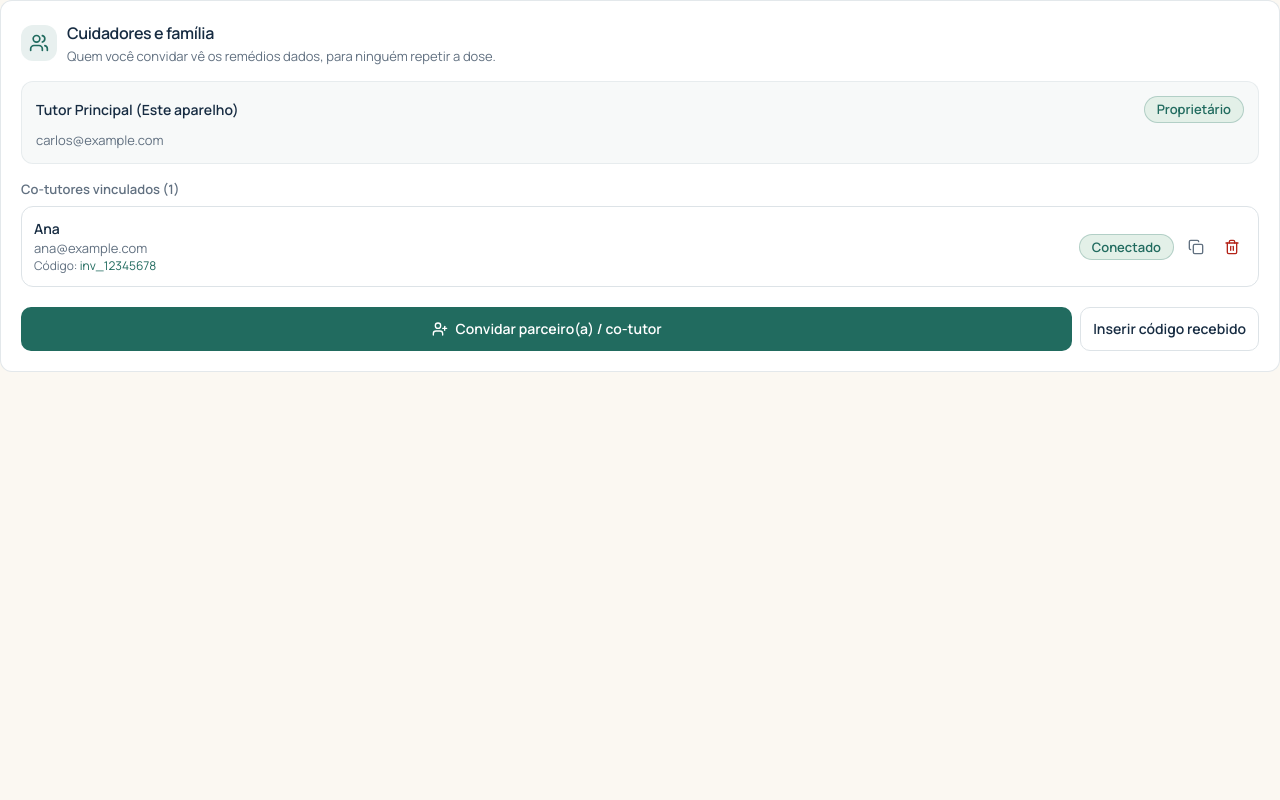
Test: Painel de Colaboradores e Multi-Tutor › abre modal para convidar co-tutor ao clicar no botão
The image size is (1280, 800).
Click the button "Convidar parceiro(a) / co-tutor": (547, 329) [21, 307, 1072, 351]
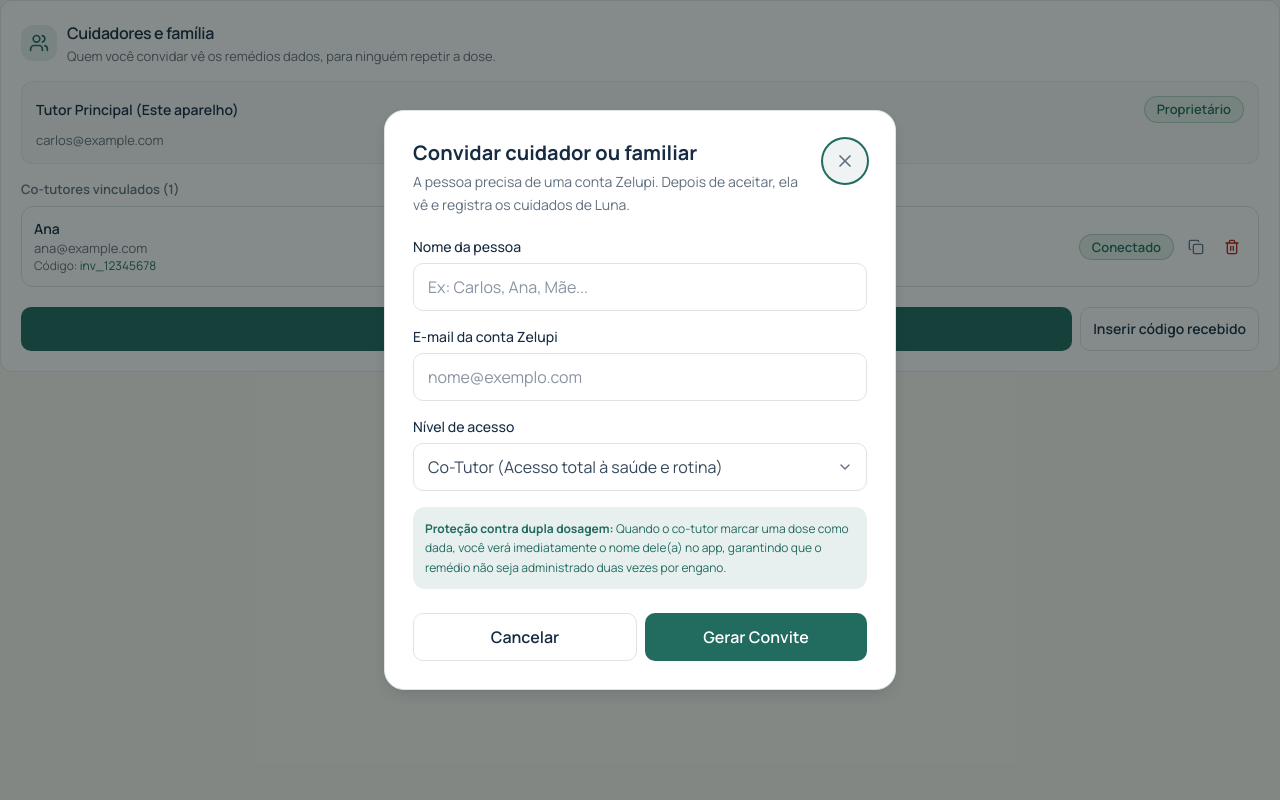
Now the heading "Convidar cuidador ou familiar" is shown, box [413, 139, 697, 166]
Now the field labelled "Nome da pessoa" is shown, box [413, 262, 867, 310]
Now the field labelled "E-mail da conta Zelupi" is shown, box [413, 352, 867, 400]
